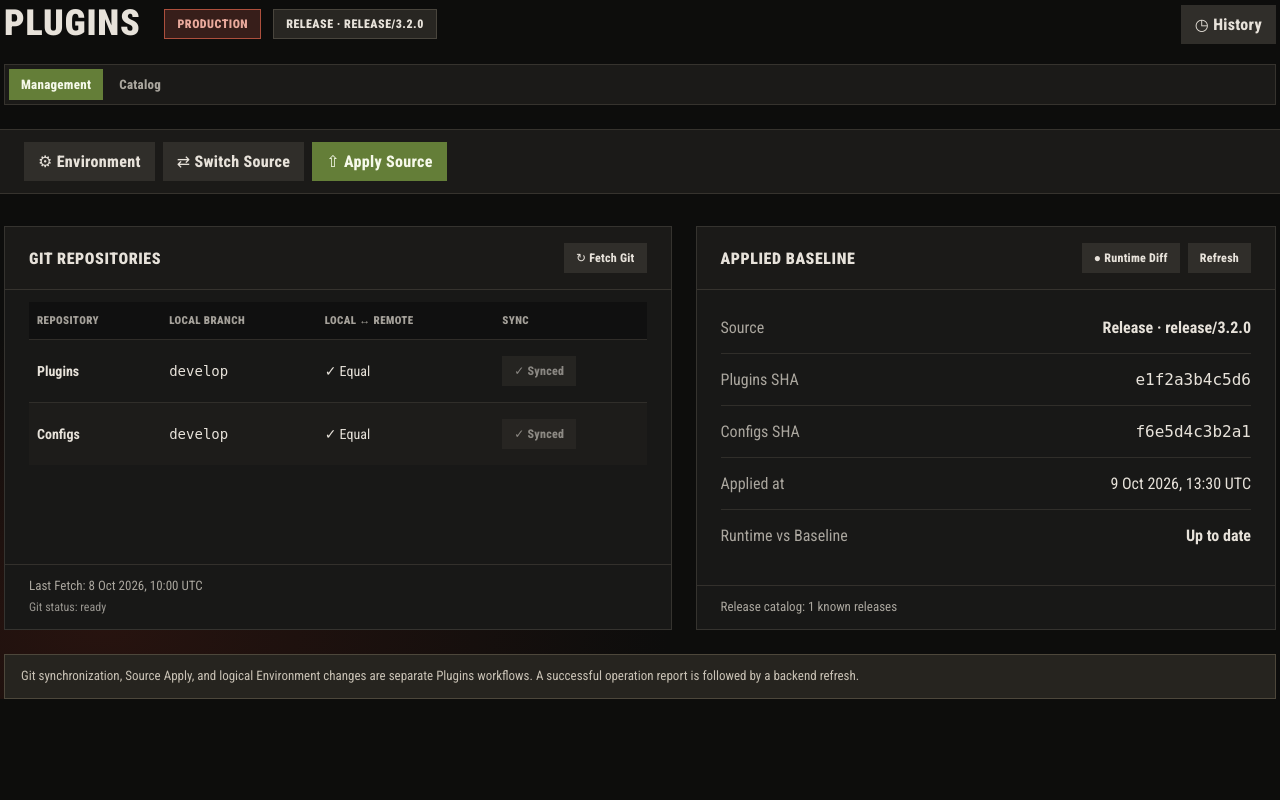
Test: Plugins management workflows › previews a selected Release, then applies the same contract target after confirmation
The width and height of the screenshot is (1280, 800).
Click the button "⇄ Switch Source".
click(233, 162)  # box [163,142,304,181]
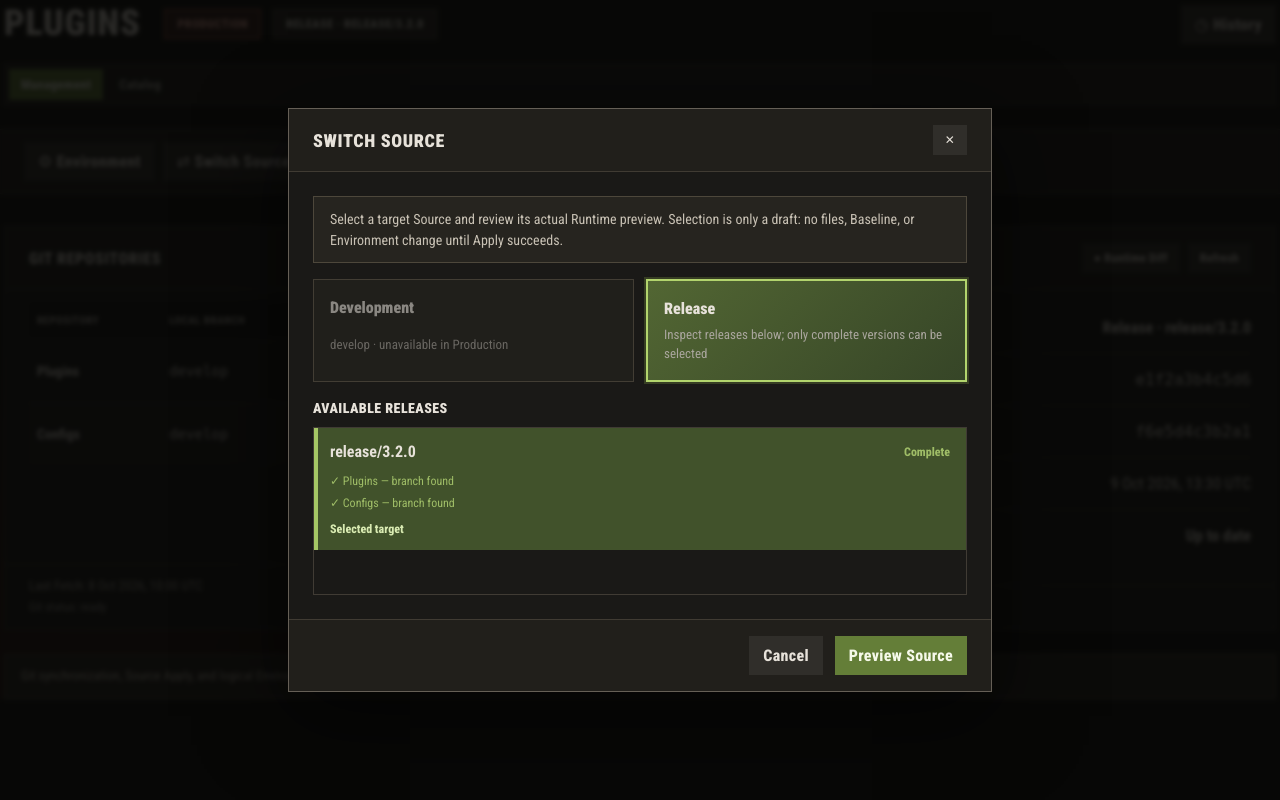
Click the button "Preview Source".
click(901, 655)  # box [835,636,967,675]
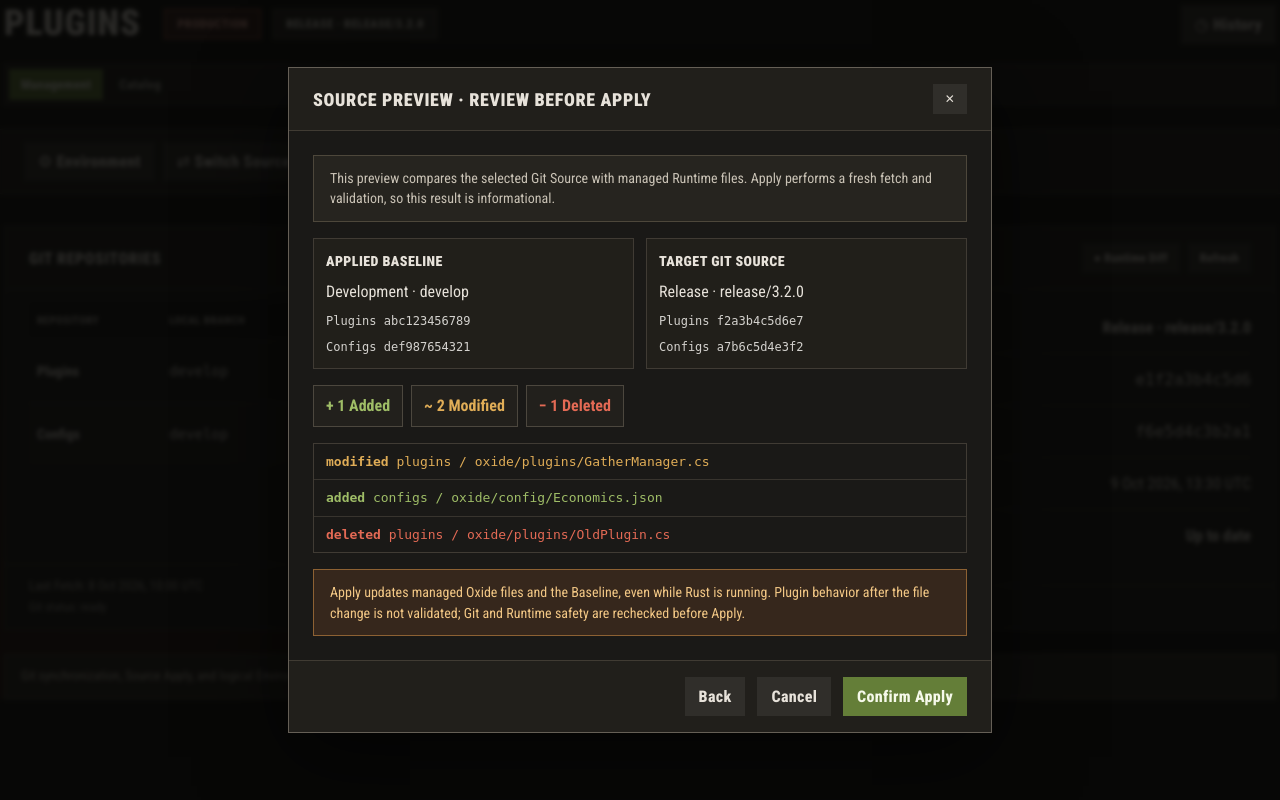
Now the text "added configs / oxide/config/Economics.json" is shown, box [314,480,966,517]
Click the button "Confirm Apply".
click(905, 696)  # box [843,677,967,716]
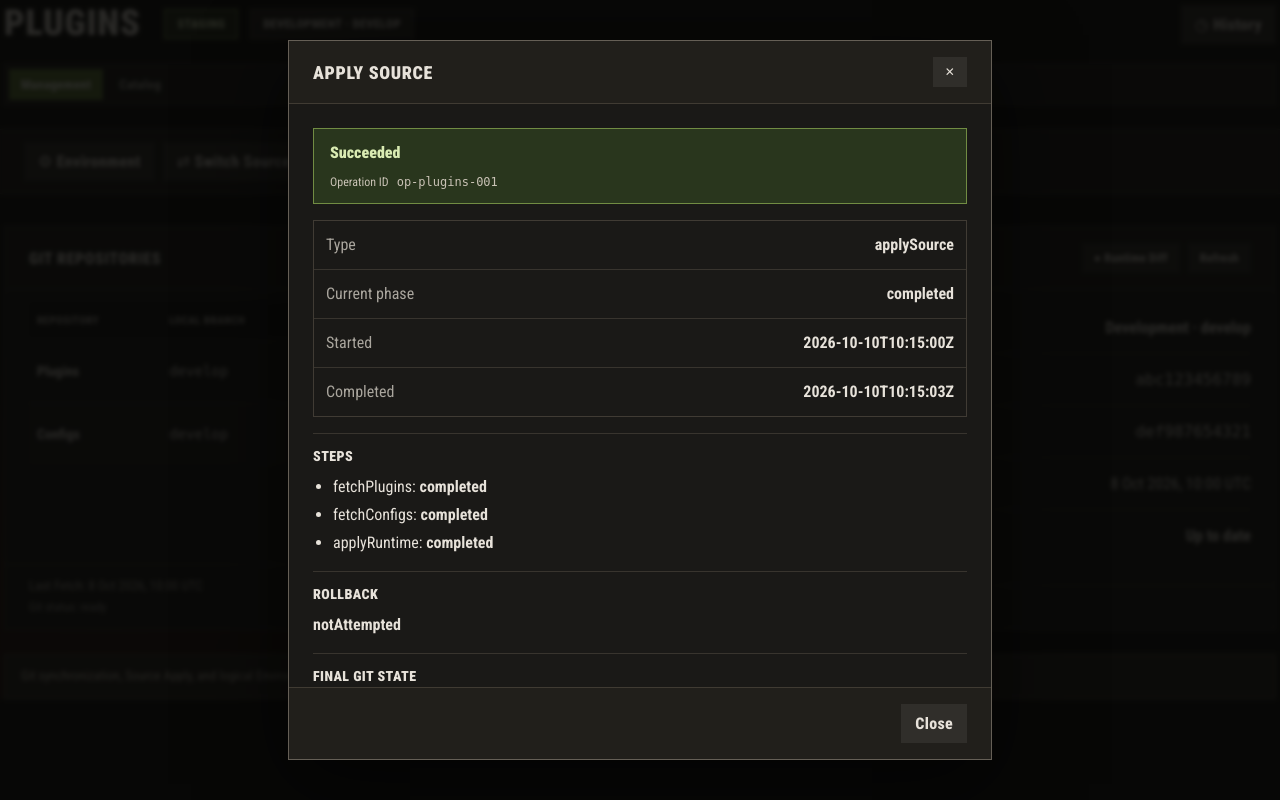
Now the text "Succeeded" is shown, box [330,143,400,162]
